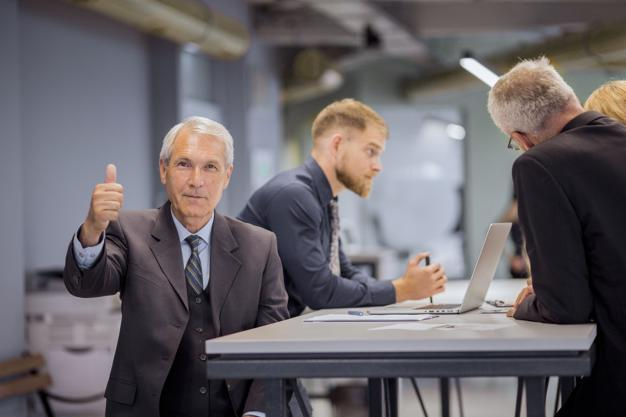thumbsup: (91, 164, 124, 220)
